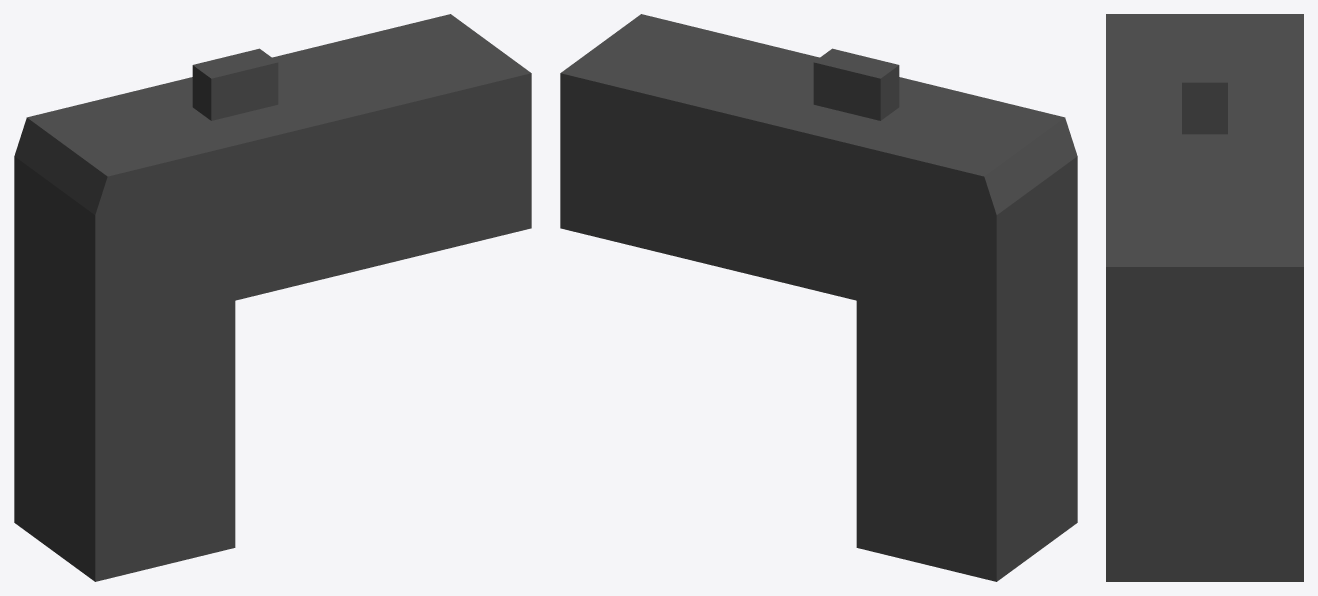
File: gun.glb
The picture shows the model from 3 angles, left to right: view 1: azimuth 30°, elevation 25°; view 2: azimuth 150°, elevation 25°; view 3: azimuth 270°, elevation 25°; orthographic projection. The views are drawn at different scales.
Parts seen in each view (by area): view 1: Cube; view 2: Cube; view 3: Cube.
Part boxes in pixels (x1,y1,x2,y2): Cube: (14,14,531,581); Cube: (560,14,1077,581); Cube: (1106,14,1303,581).
Size of the model in its own units: 0.8978 by 0.8743 by 0.2882.
Materials: 1 (1 with a texture image).
